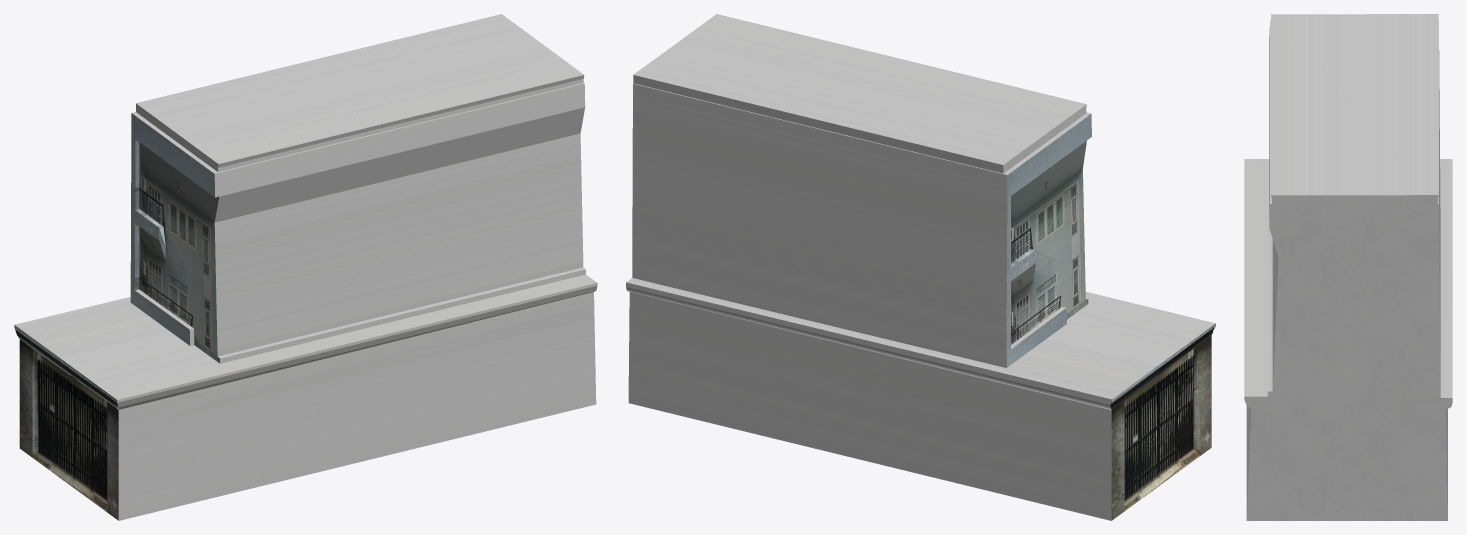
File: RefHouse5.fbx
3 views of the same model, side by side, from view 1: azimuth 30°, elevation 25°; view 2: azimuth 150°, elevation 25°; view 3: azimuth 270°, elevation 25° (orthographic).
Visible parts, largest first — view 1: ReferenceHouse5; view 2: ReferenceHouse5; view 3: ReferenceHouse5.
Boxes of the visible parts, x1,y1,x2,y2 form: ReferenceHouse5: (14, 14, 597, 520); ReferenceHouse5: (626, 14, 1215, 520); ReferenceHouse5: (1244, 14, 1452, 520).
Bounding box in the file's own units: 2078 × 1329 × 771.
Materials: 2 (2 with a texture image).
